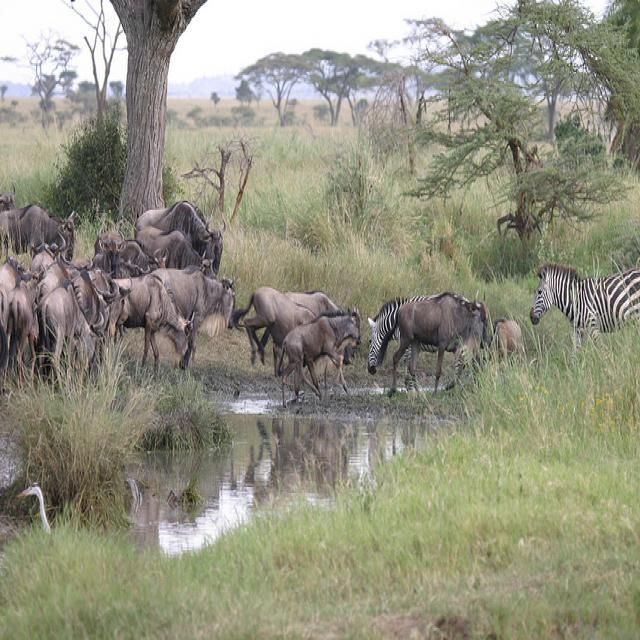cow: (28, 277, 103, 391)
